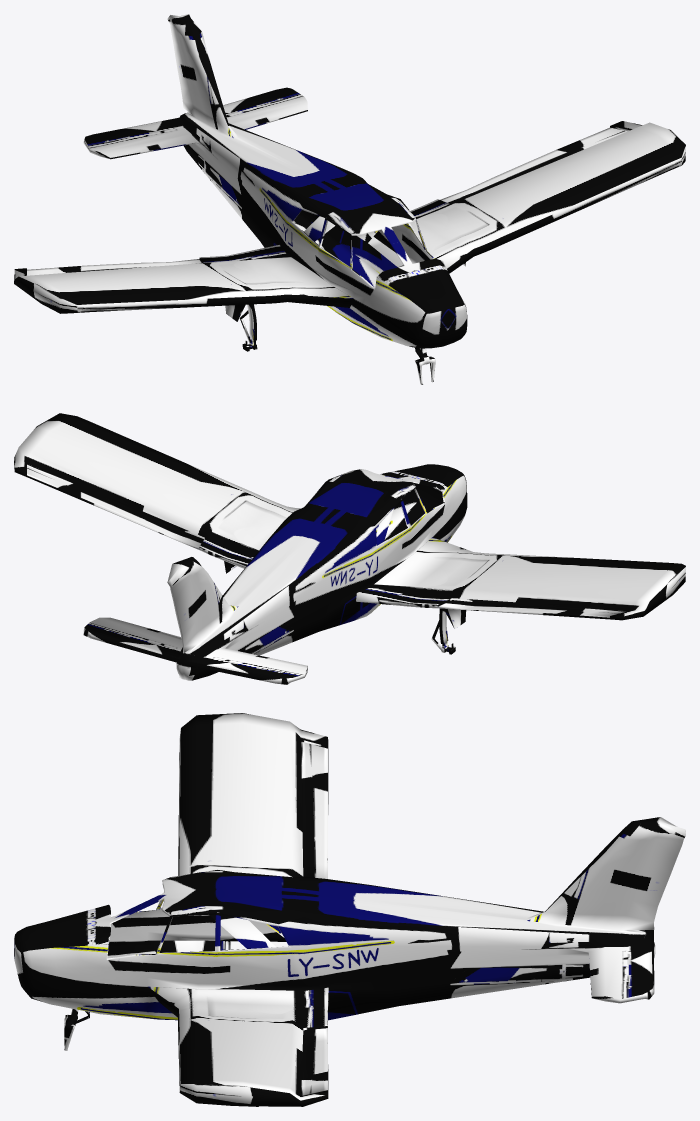
The model's file is galVeikia.glb.
3 renders of one model, top to bottom at view 1: azimuth 30°, elevation 25°; view 2: azimuth 150°, elevation 25°; view 3: azimuth 270°, elevation 25°, orthographic. The views are drawn at different scales.
Parts seen in each view (by area): view 1: Cube.001; view 2: Cube.001; view 3: Cube.001.
Boxes of the visible parts, x1,y1,x2,y2 form: Cube.001: (14, 14, 685, 384); Cube.001: (14, 413, 685, 684); Cube.001: (14, 713, 685, 1106).
Size of the model in its own units: 3.82 by 1.08 by 2.91.
Materials: 1 (1 with a texture image).
